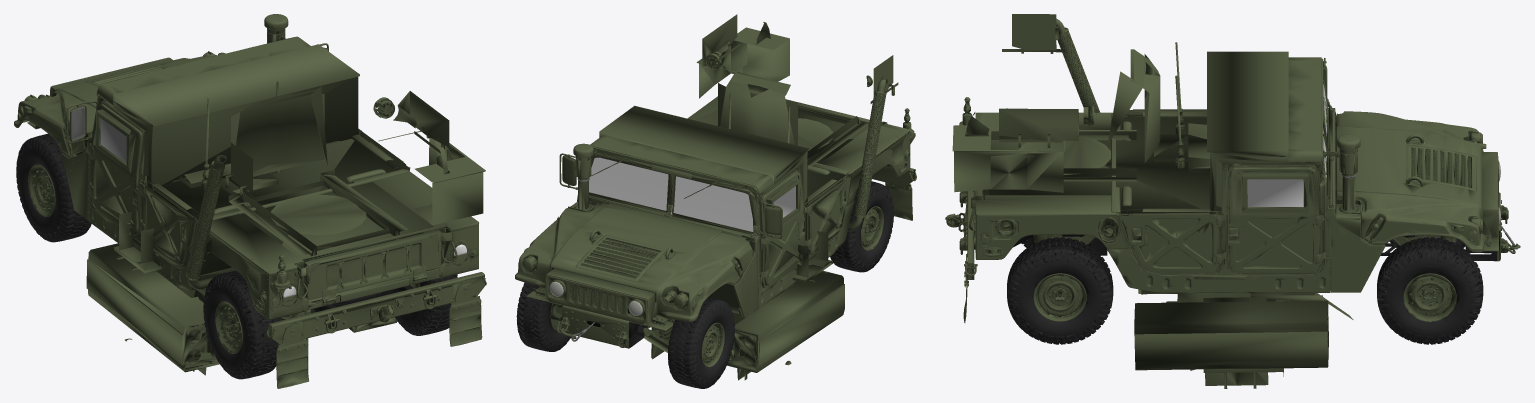
Rendered from avenger.glb.
3 views of the same model, side by side, from view 1: azimuth 30°, elevation 25°; view 2: azimuth 150°, elevation 25°; view 3: azimuth 270°, elevation 25° (orthographic). The views are drawn at different scales.
Visible parts, largest first — view 1: body|Humvee_gum#camo, body|Humvee_body#camo, body|Humvee_tire, cradle|Humvee_gum#camo, turret|Humvee_gum#camo, body|Humvee_interior#camo, body|Humvee_d_glass, body|Humvee_paint_black, body|Humvee_chrome; view 2: body|Humvee_body#camo, body|Humvee_gum#camo, body|Humvee_tire, cradle|Humvee_gum#camo, body|Humvee_d_glass, turret|Humvee_gum#camo, body|Humvee_interior#camo, body|Humvee_paint_black, body|Humvee_head_lights; view 3: body|Humvee_body#camo, body|Humvee_gum#camo, cradle|Humvee_gum#camo, body|Humvee_tire, turret|Humvee_gum#camo, body|Humvee_interior#camo, body|Humvee_d_glass, body|Humvee_paint_black.
Boxes of the visible parts, x1,y1,x2,y2 form: body|Humvee_gum#camo: (113,44,485,388); body|Humvee_body#camo: (14,14,486,353); body|Humvee_tire: (16,133,457,379); cradle|Humvee_gum#camo: (86,243,397,375); turret|Humvee_gum#camo: (114,81,278,302); body|Humvee_interior#camo: (103,99,407,220); body|Humvee_d_glass: (100,118,126,163); body|Humvee_paint_black: (84,137,413,313); body|Humvee_chrome: (71,49,327,140); body|Humvee_body#camo: (515,96,916,367); body|Humvee_gum#camo: (551,14,912,352); body|Humvee_tire: (516,181,893,388); cradle|Humvee_gum#camo: (647,272,844,380); body|Humvee_d_glass: (589,157,795,234); turret|Humvee_gum#camo: (728,92,832,324); body|Humvee_interior#camo: (595,157,849,211); body|Humvee_paint_black: (556,286,647,347); body|Humvee_head_lights: (549,281,642,315); body|Humvee_body#camo: (945,57,1520,321); body|Humvee_gum#camo: (952,14,1471,322); cradle|Humvee_gum#camo: (1134,293,1353,388); body|Humvee_tire: (1007,237,1483,344); turret|Humvee_gum#camo: (1138,42,1322,305); body|Humvee_interior#camo: (1103,108,1336,278); body|Humvee_d_glass: (1247,80,1326,206); body|Humvee_paint_black: (974,170,1499,260).
Size of the model in its own units: 2.49 by 2.79 by 4.79.
